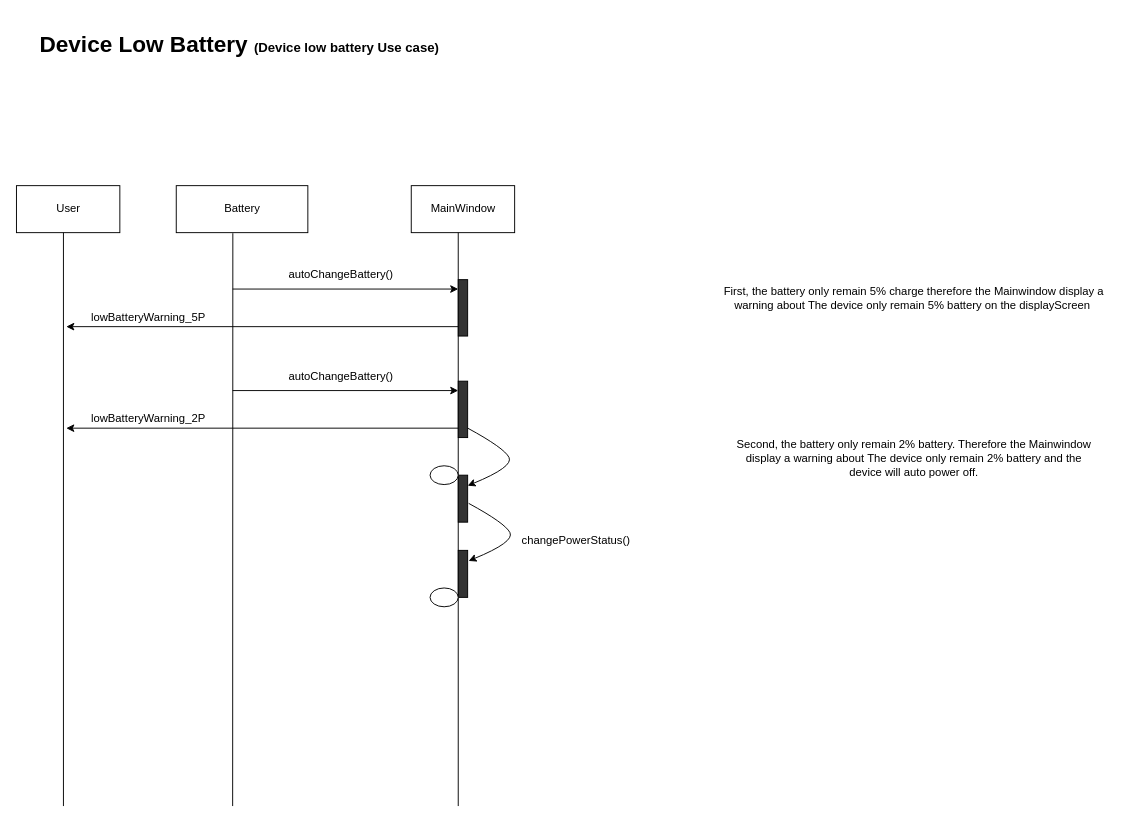
Some shapes in this 1123 by 823 pixel diagram are drawn without their labels. Each missing label, with the centre of its shape:
"off" belongs at point 443,597.
"on" belongs at point 443,475.
